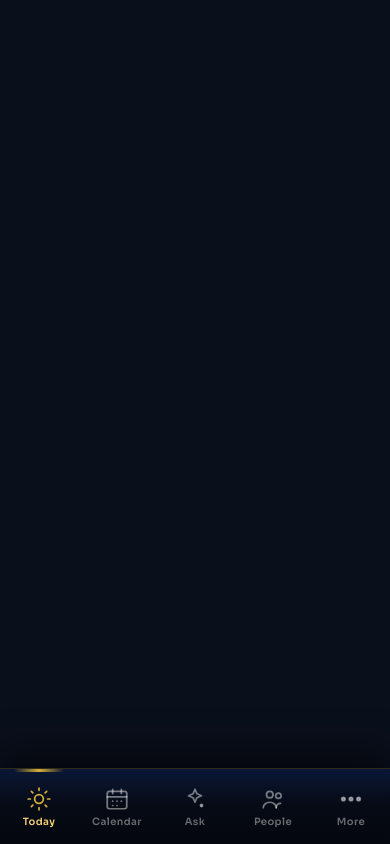
Scenario: MobileTabBar › can reopen More after closing via a destination
This screenshot has width=390, height=844.
Click the button "More" at [351, 806], box [312,769,389,843]
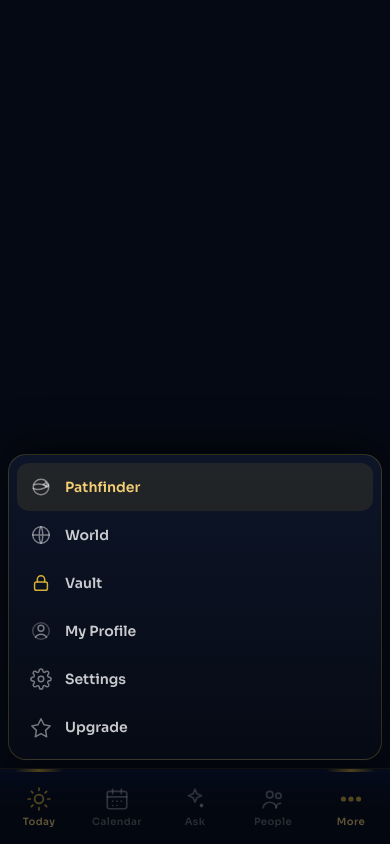
Click the link "Settings" at [78, 679], box [30,668,126,690]
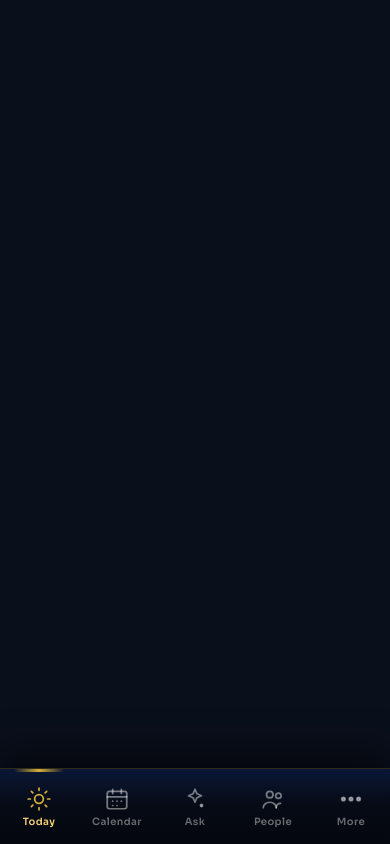
Click the button "More" at [351, 806], box [312,769,389,843]
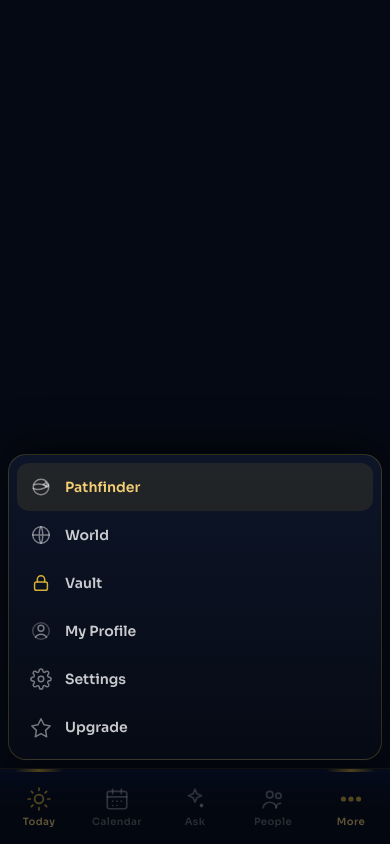
Result: the dialog named "more" is shown at [8,454,382,760]
